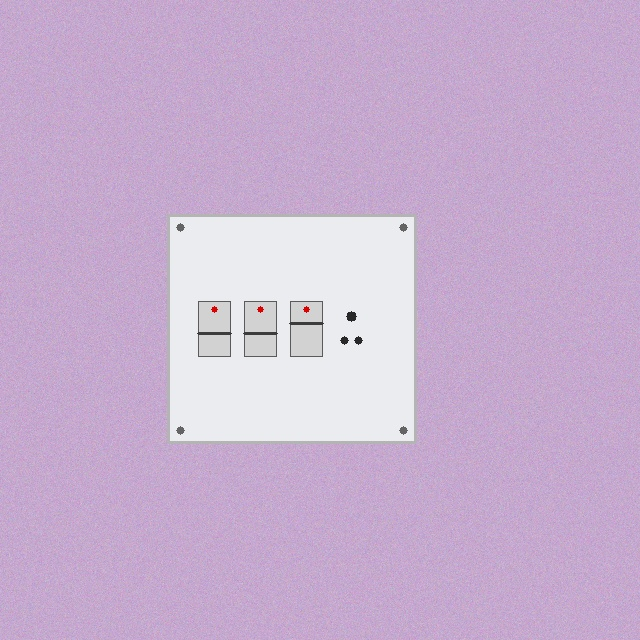switchboard: (168, 215, 415, 442)
